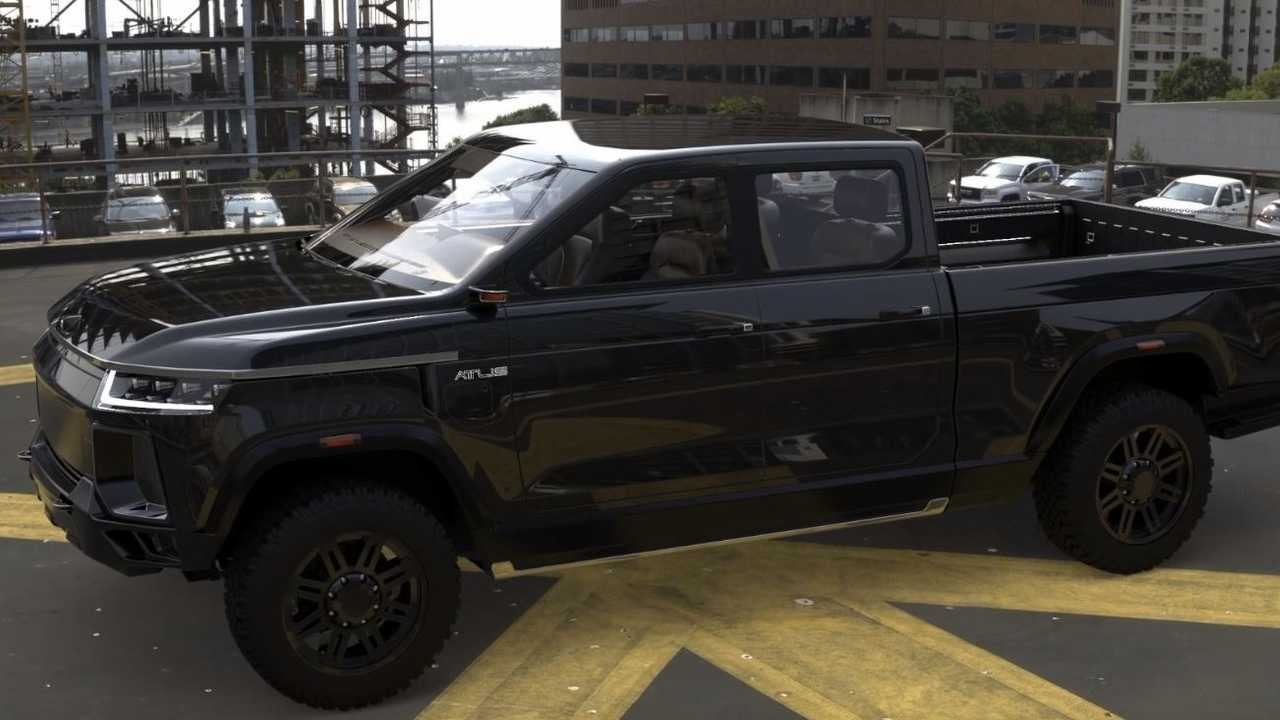Car: (38, 117, 1233, 566)
